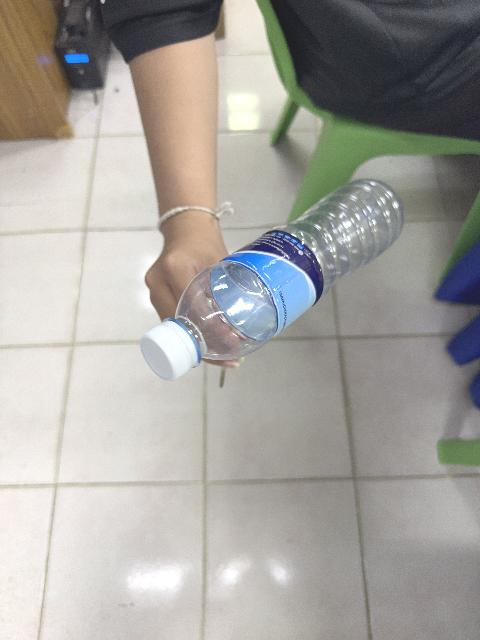bottle: (141, 180, 403, 380)
